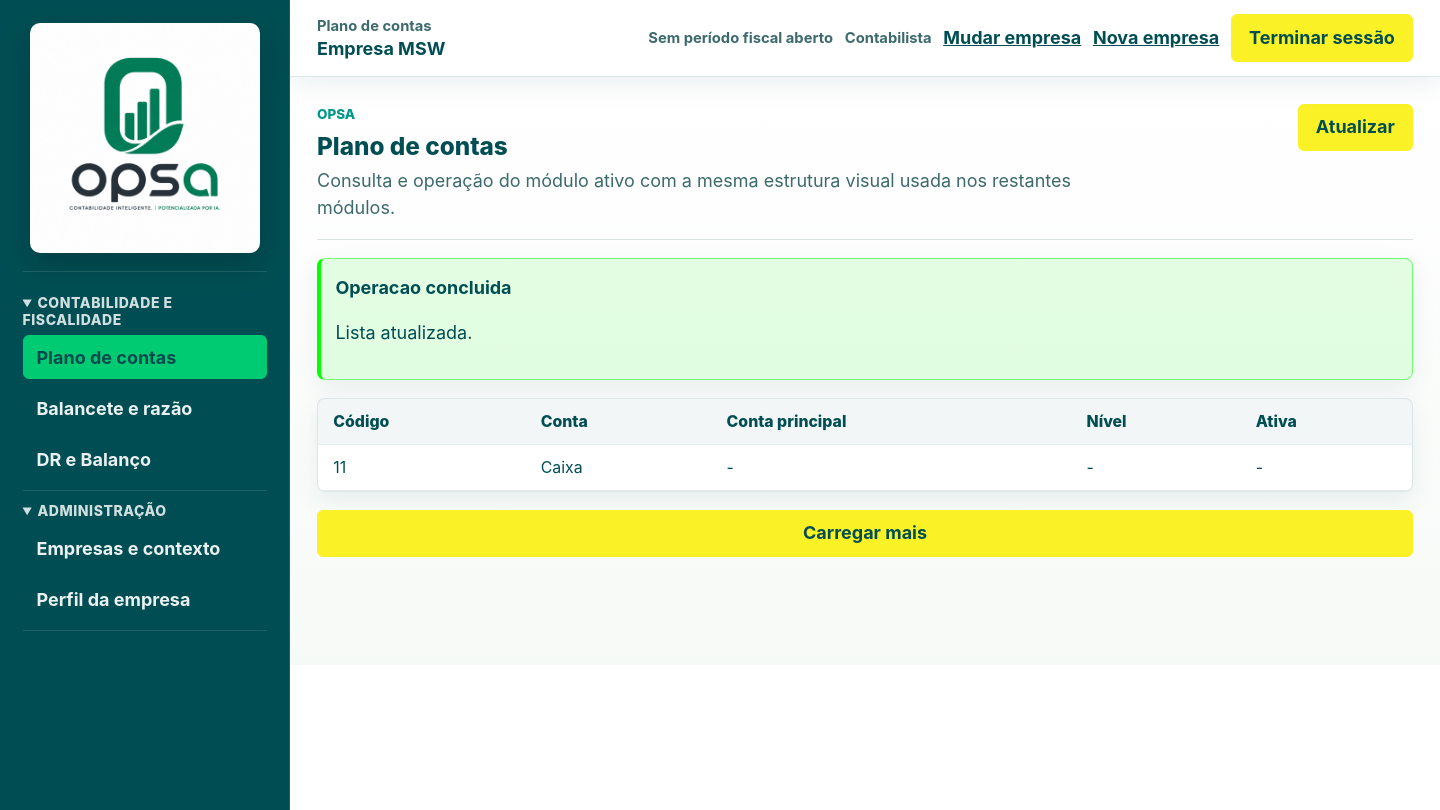
Test: App com transporte MSW › ResourcePanel preserva a primeira página e envia cursor/limit ao carregar mais
Expected: the text "Caixa" is shown, [525,445,711,490]
Step 1. Click the button "Carregar mais" → (865, 533), box [317,510,1413,557]
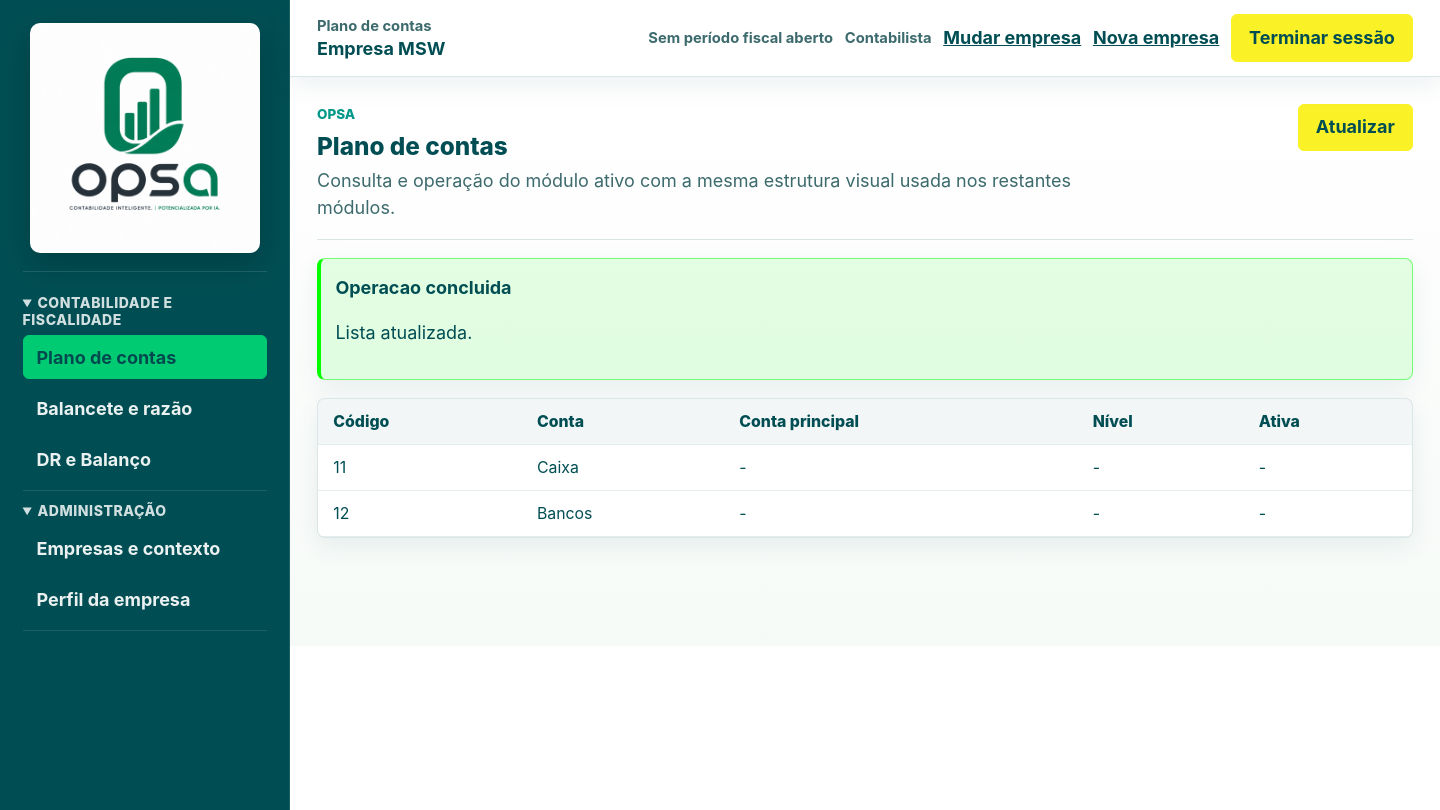
Expected: the text "Caixa" is shown, [522,445,724,490]
Expected: the text "Bancos" is shown, [522,490,724,536]
Expected: the button "Carregar mais" is gone
